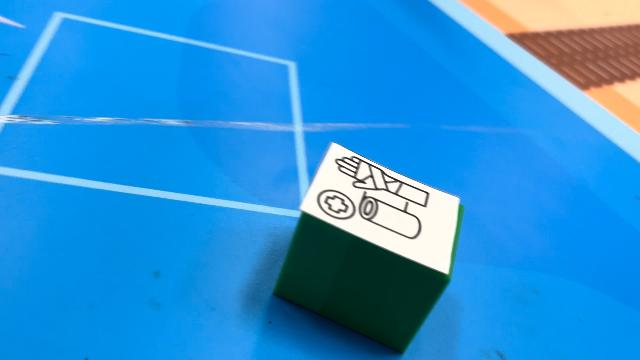bandage: (272, 140, 464, 354)
